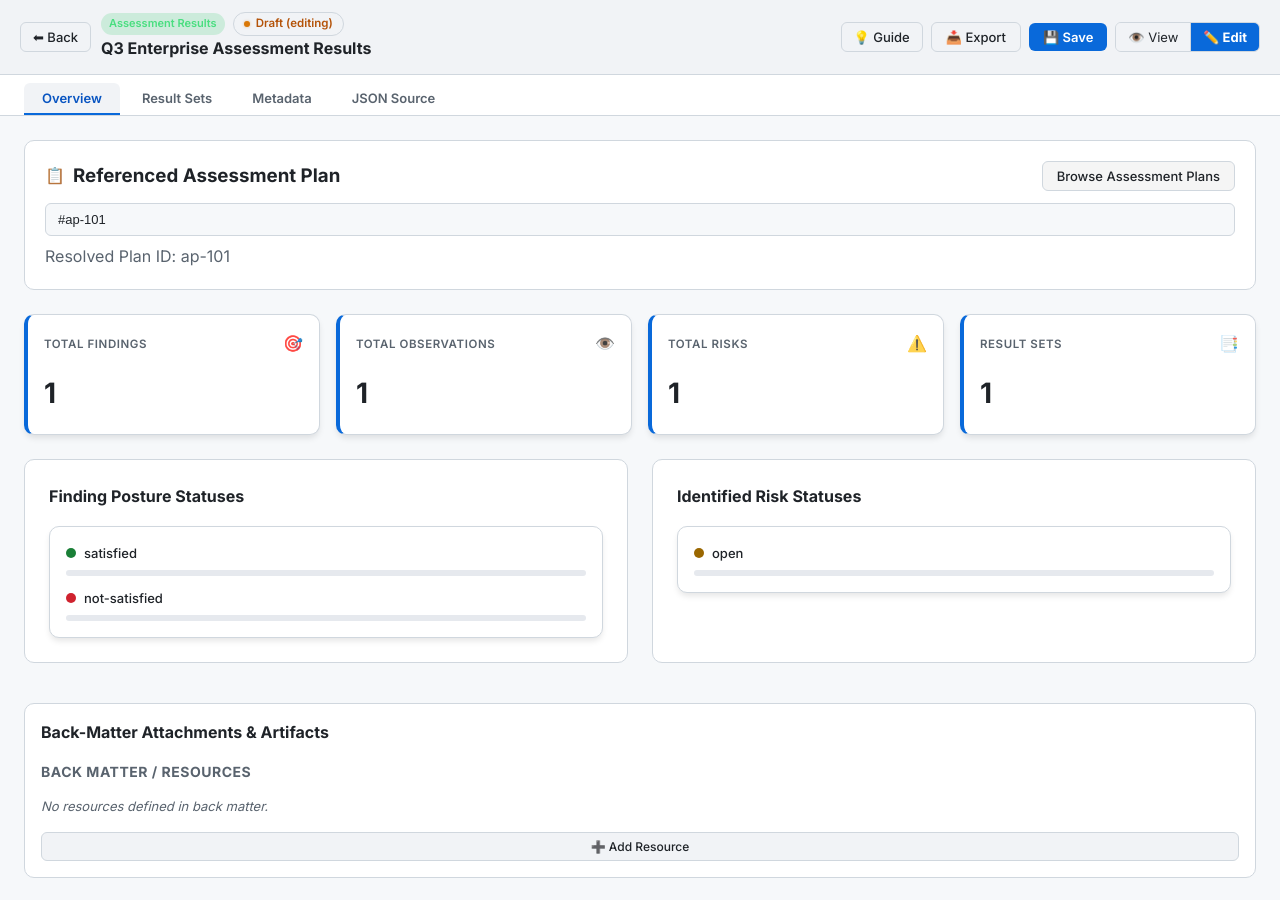
it: ARPage — Modular Architecture & Elimination of Stubbed Handlers › navigates to Result Sets tab and renders sidebar with accessible buttons
// Switch to Result Sets
Click the button "Result Sets" at (177, 99), box [124,83,230,115]
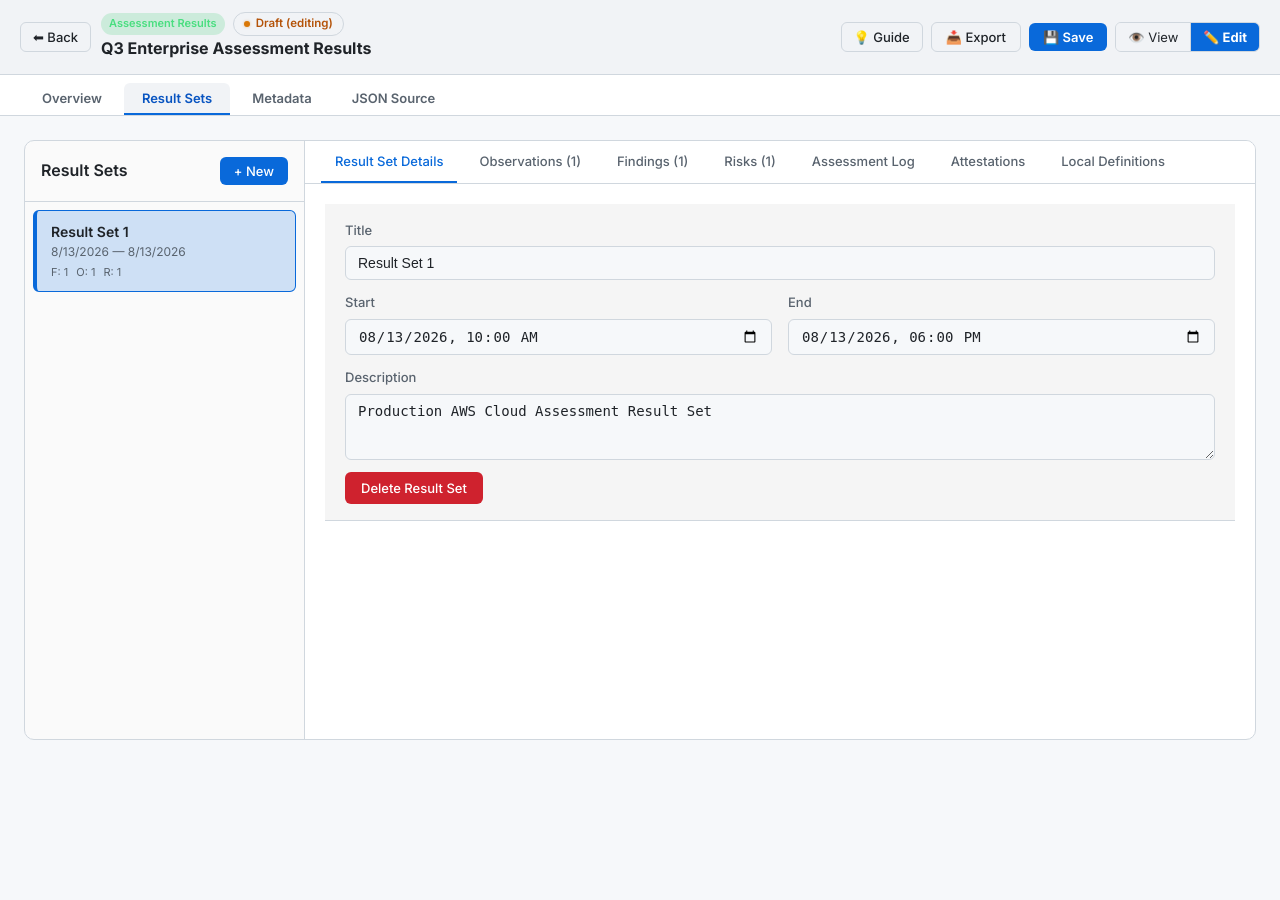
Expected: the button "Result Set 1 8/13/2026 — 8/13/2026 F: 1 O: 1 R: 1" is shown, [33,210,296,292]
Expected: the button "+ New" is shown, [220,157,288,185]
